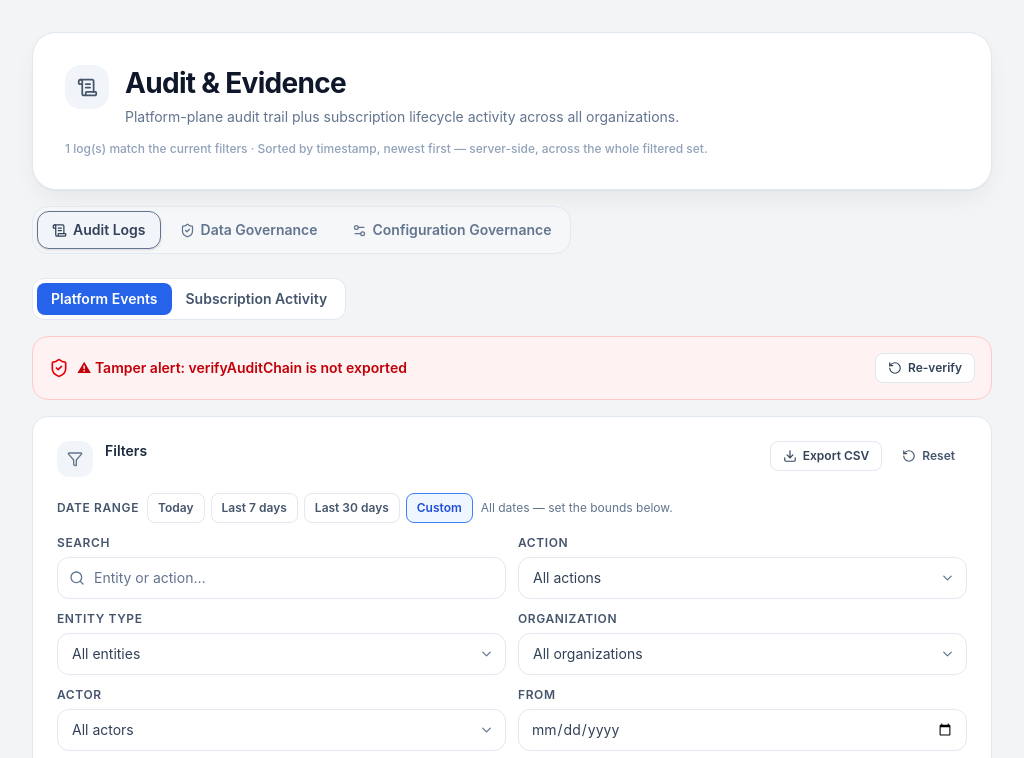
Test: AuditLogsPage › treats an empty export as a failure when the table reports matching rows
This screenshot has width=1024, height=758.
Click the button "Export CSV".
click(826, 456)  # box [770,441,882,471]
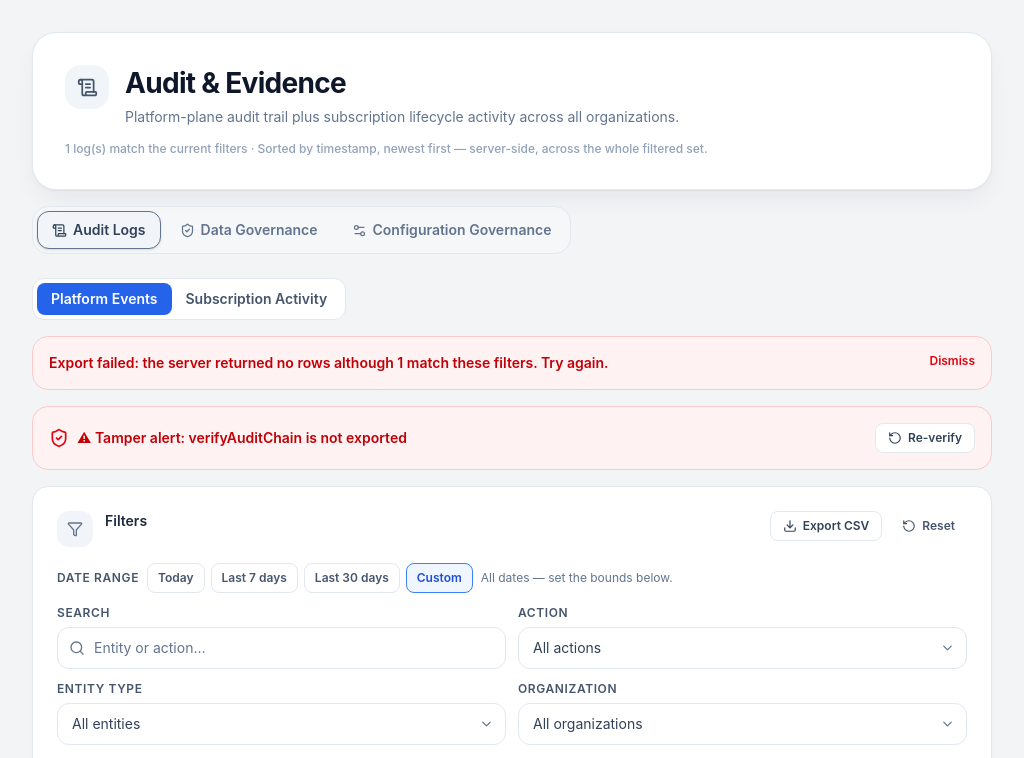
Now the 1st message shows "returned no rows although 1 match", box [49,354,608,371]
